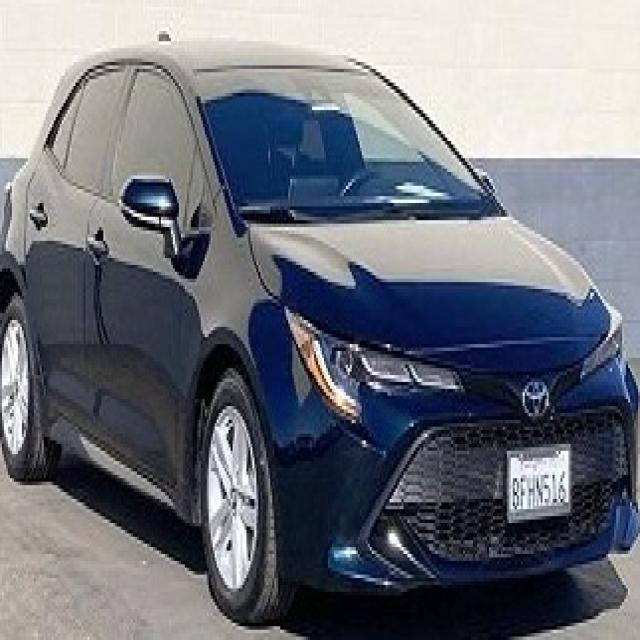blue: (5, 21, 640, 604)
